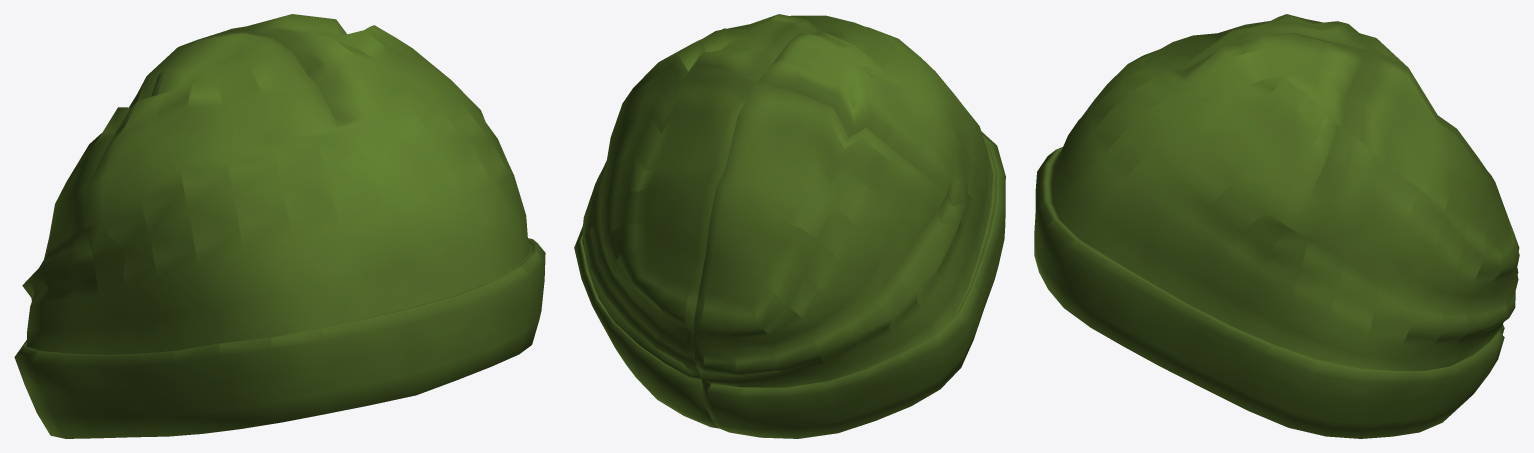
File: Beanie_Girl.fbx
3 renders of one model, left to right at view 1: azimuth 30°, elevation 25°; view 2: azimuth 150°, elevation 25°; view 3: azimuth 270°, elevation 25°, orthographic. The views are drawn at different scales.
Visible parts, largest first — view 1: Beanie; view 2: Beanie; view 3: Beanie.
Part boxes in pixels (x1,y1,x2,y2): Beanie: (14, 14, 545, 438); Beanie: (574, 14, 1005, 438); Beanie: (1034, 14, 1519, 438).
Bounding box in the file's own units: 68.54 × 57.28 × 68.66.
